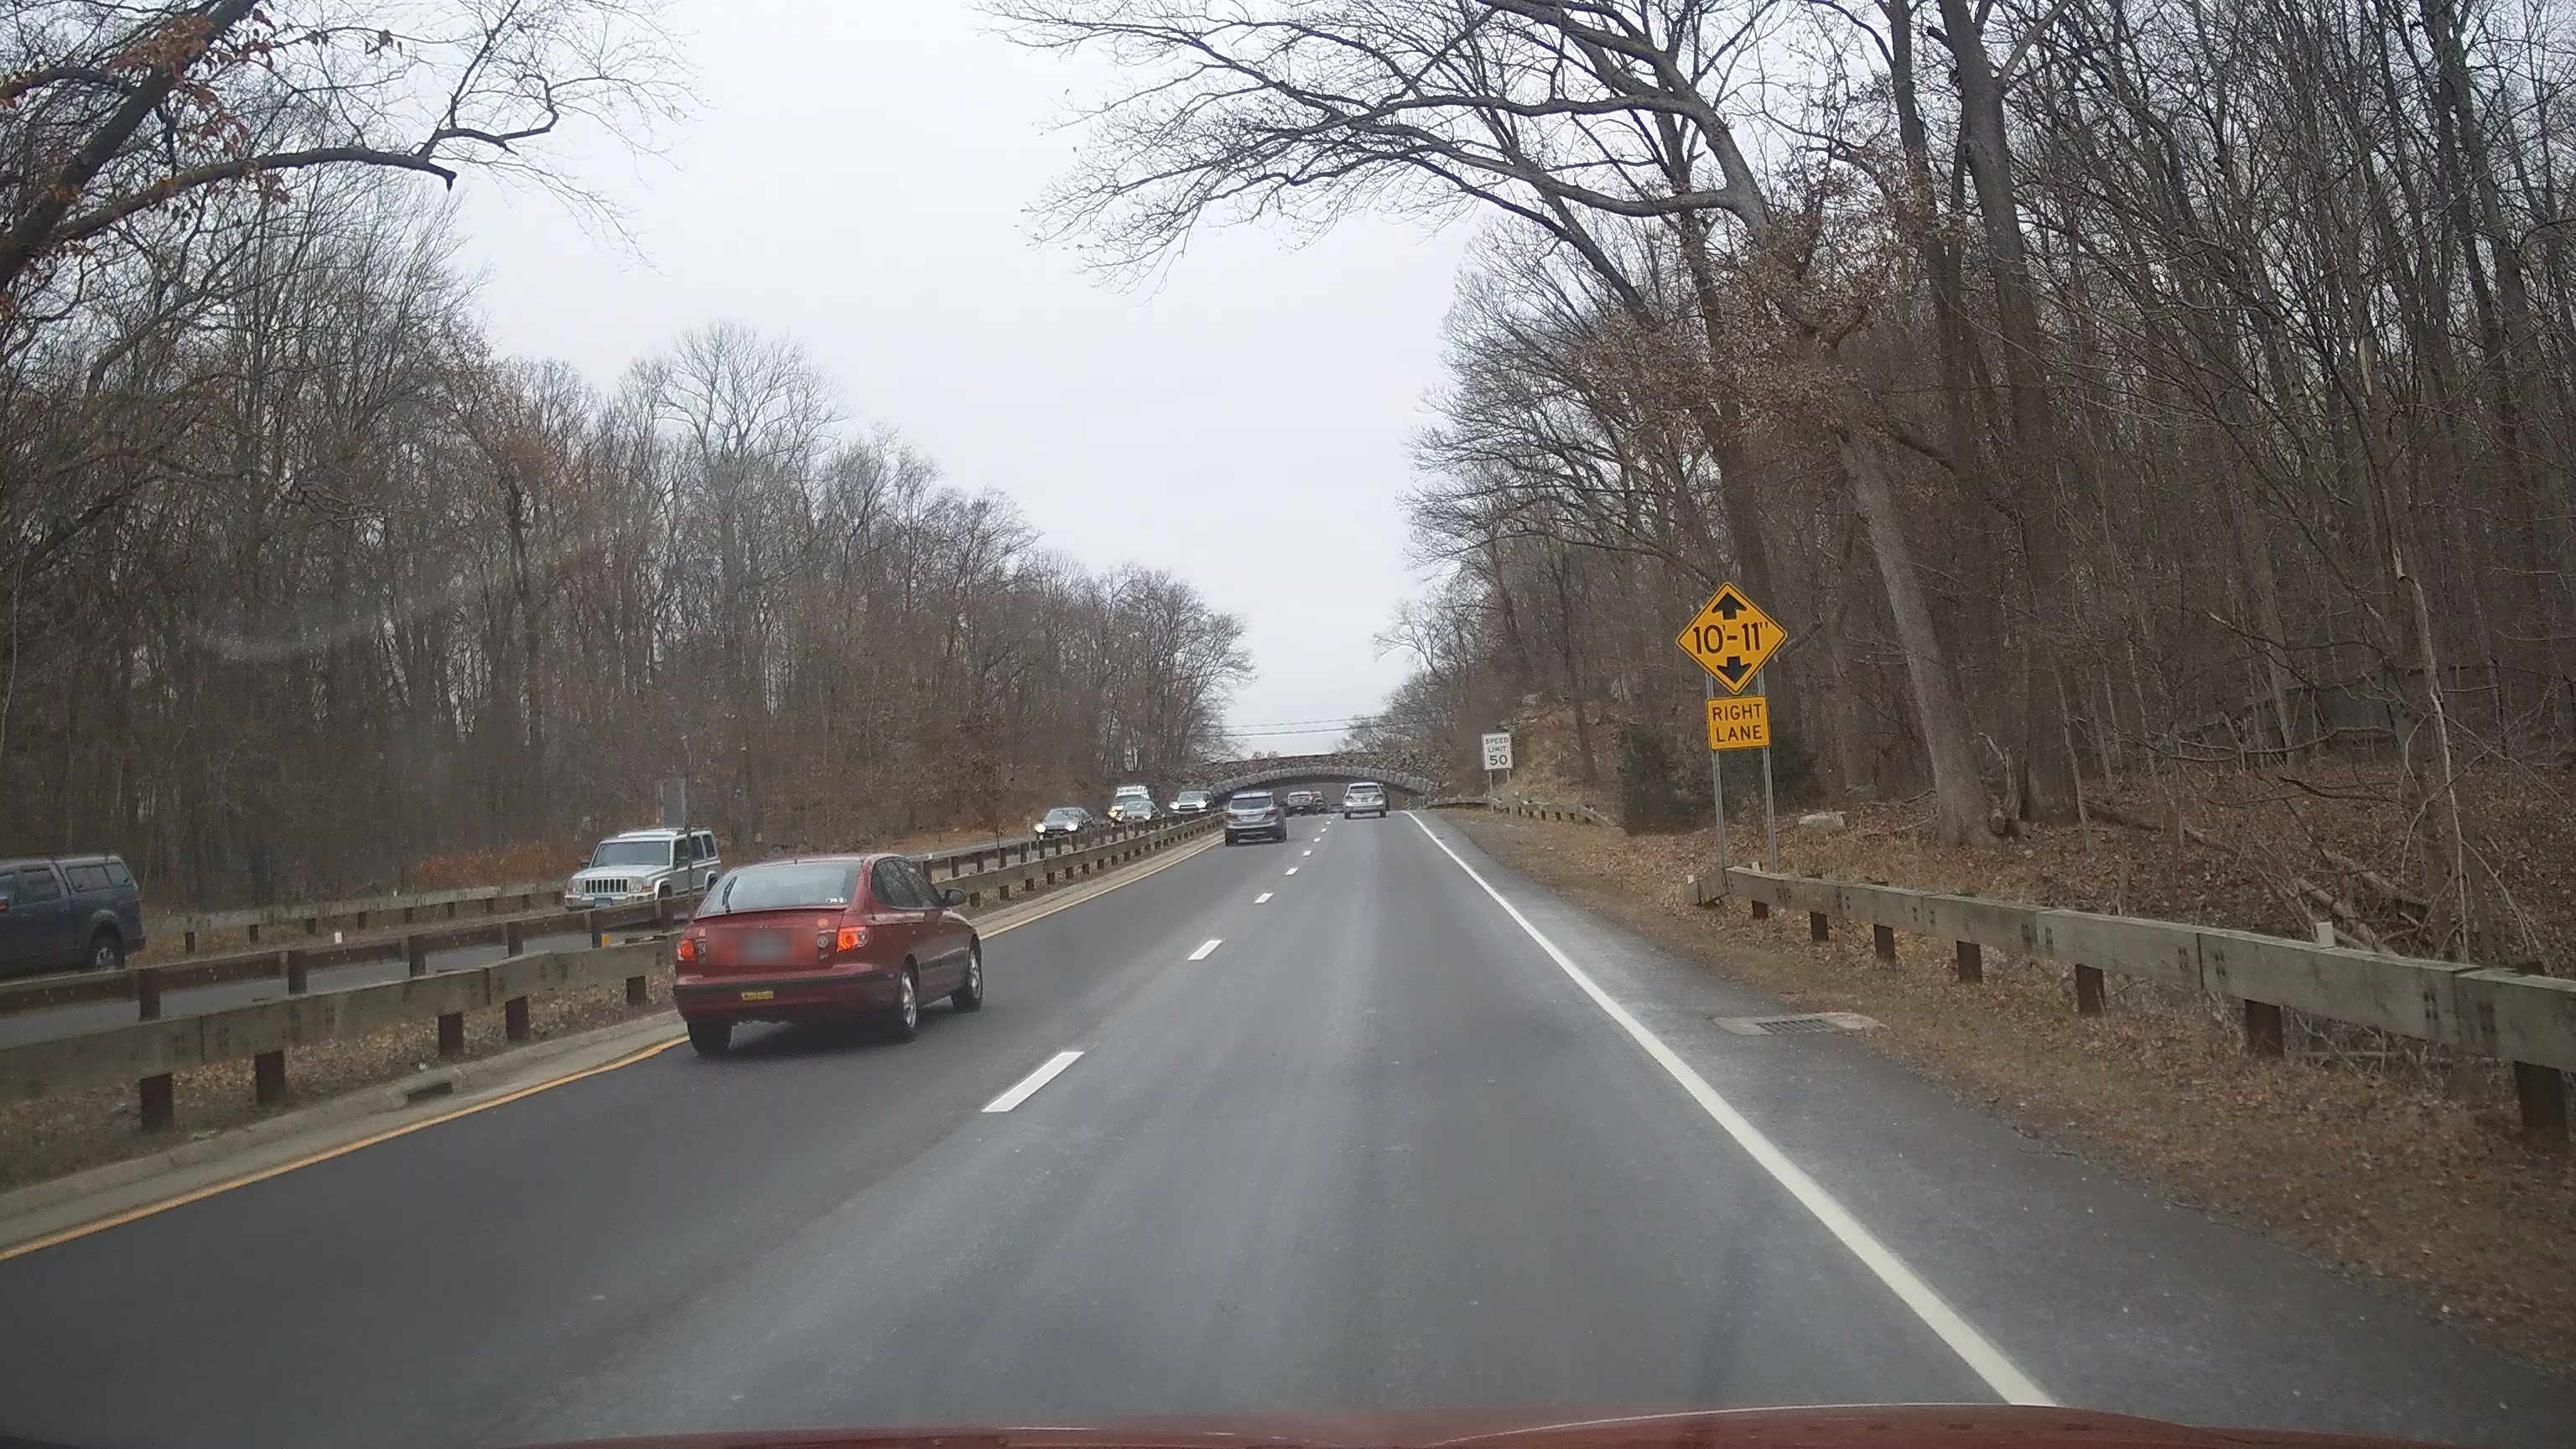low-clearance-sign: (1675, 580, 1787, 695)
